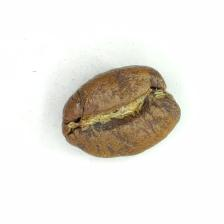NG: (68, 70, 167, 145)
